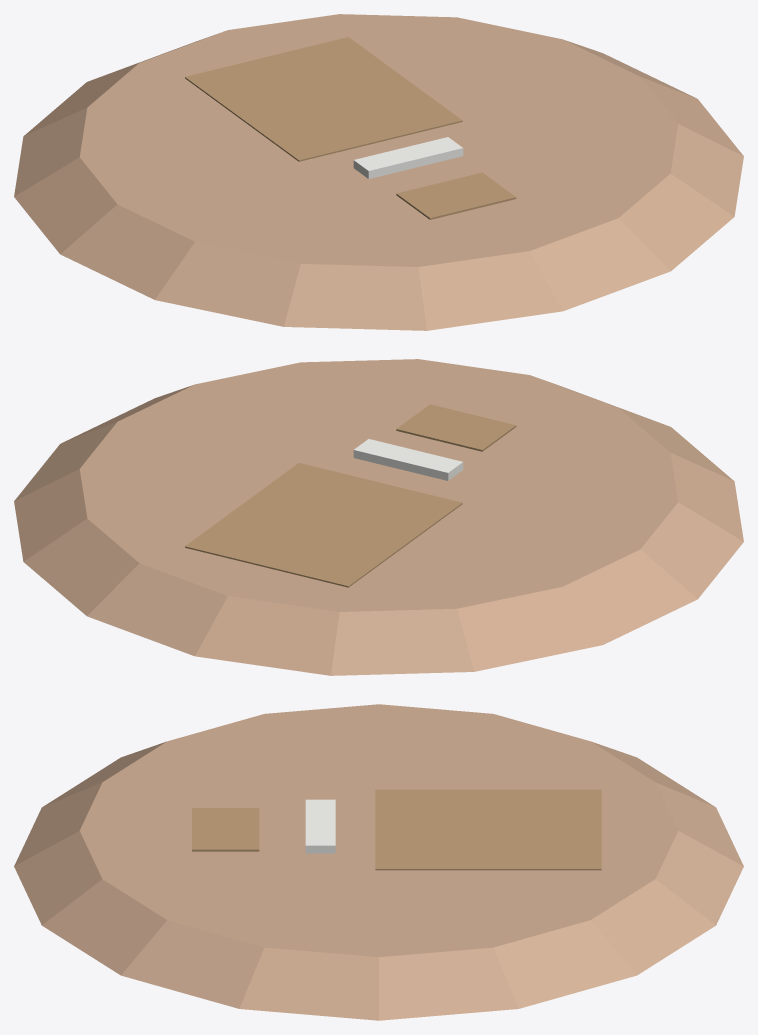
The model's file is baseball-park-and-batting-cages-bullpen-mound-bc62bc74__33744.glb.
3 views of the same model, one above another, from view 1: azimuth 30°, elevation 25°; view 2: azimuth 150°, elevation 25°; view 3: azimuth 270°, elevation 25° (orthographic).
Parts seen in each view (by area): view 1: bullpen-mound; view 2: bullpen-mound; view 3: bullpen-mound.
Part boxes in pixels (x1,y1,x2,y2): bullpen-mound: (14, 14, 743, 330); bullpen-mound: (14, 359, 743, 675); bullpen-mound: (14, 704, 743, 1020).
Size of the model in its own units: 3.7 by 0.245 by 3.7.
